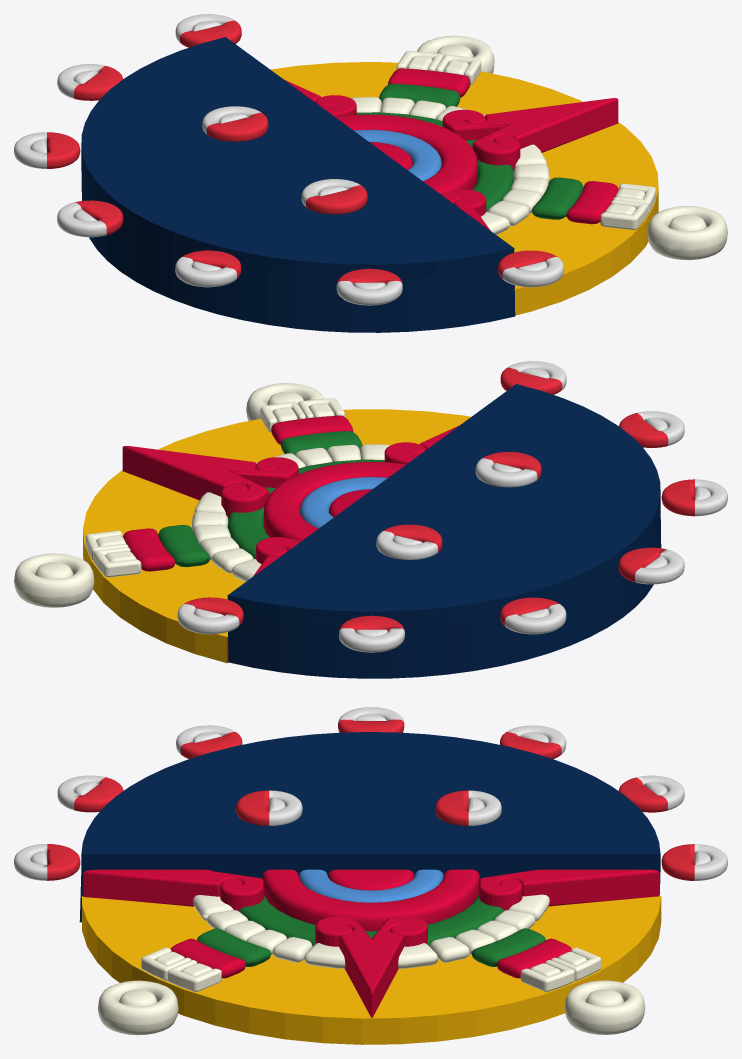
File: tonatiuh_cualo_blender_v1.gltf
3 renders of one model, top to bottom at view 1: azimuth 30°, elevation 25°; view 2: azimuth 150°, elevation 25°; view 3: azimuth 270°, elevation 25°, orthographic.
Parts seen in each view (by area): view 1: Outer circle, Center, Star, outer.001, outer.004; view 2: Outer circle, Center, Star, outer.001, outer.004; view 3: Center, Outer circle, Star, outer.004, outer.001.
Part boxes in pixels (x1=…): Outer circle: x1=81, y1=37, x2=515, y2=332; Center: x1=270, y1=35, x2=727, y2=315; Star: x1=14, y1=14, x2=564, y2=305; outer.001: x1=202, y1=106, x2=268, y2=141; outer.004: x1=301, y1=179, x2=367, y2=214; Outer circle: x1=227, y1=384, x2=661, y2=678; Center: x1=14, y1=383, x2=471, y2=663; Star: x1=177, y1=361, x2=727, y2=652; outer.001: x1=376, y1=524, x2=442, y2=559; outer.004: x1=475, y1=452, x2=541, y2=487; Center: x1=82, y1=869, x2=661, y2=1044; Outer circle: x1=79, y1=732, x2=660, y2=922; Star: x1=14, y1=707, x2=727, y2=880; outer.004: x1=236, y1=790, x2=302, y2=825; outer.001: x1=435, y1=790, x2=501, y2=825.
Bounding box in the file's own units: 4.46 × 0.5882 × 4.92.
